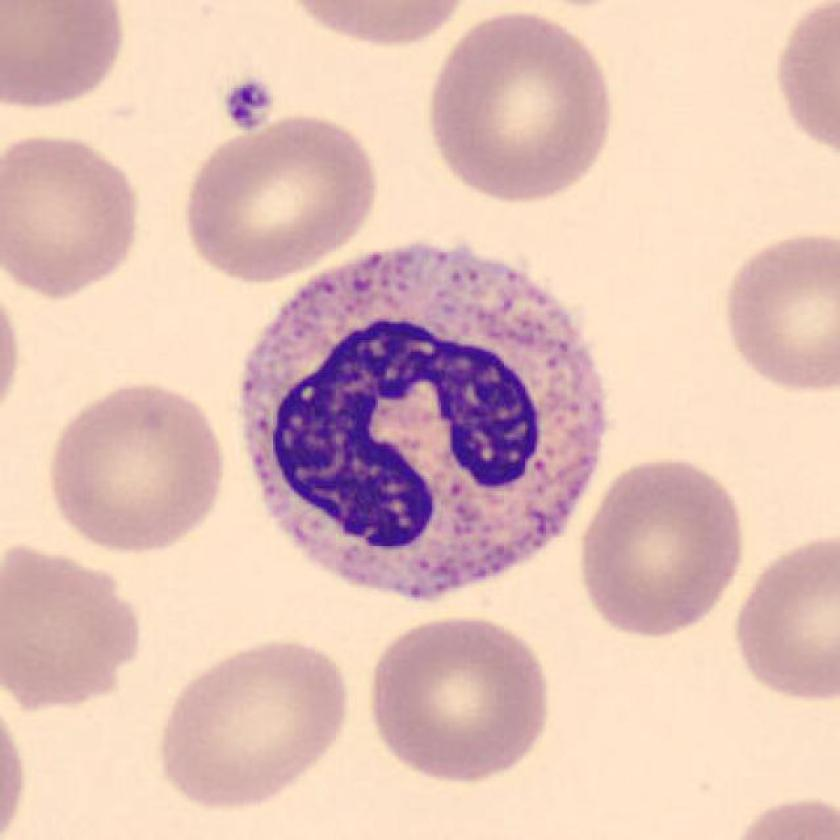neutrophil: (238, 248, 604, 602)
